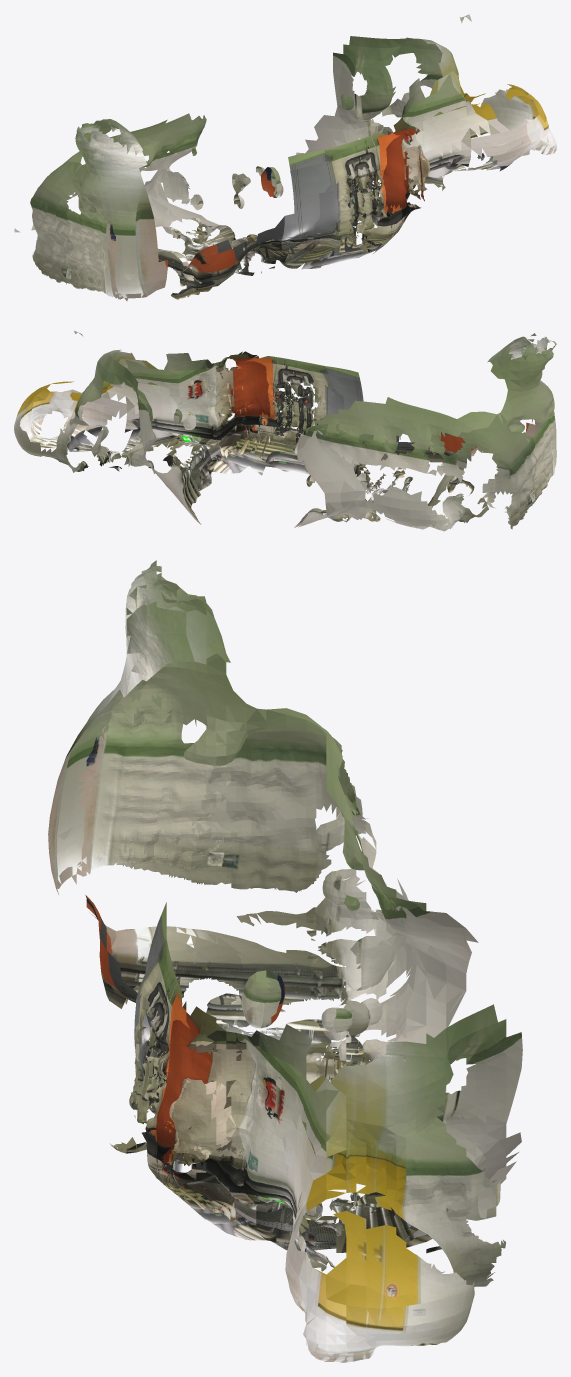
The picture shows the model from 3 angles, top to bottom: view 1: azimuth 30°, elevation 25°; view 2: azimuth 150°, elevation 25°; view 3: azimuth 270°, elevation 25°; orthographic projection. The views are drawn at different scales.
Bounding box in the file's own units: 4.24 × 1.68 × 1.81.
Materials: 12 (12 with a texture image).
